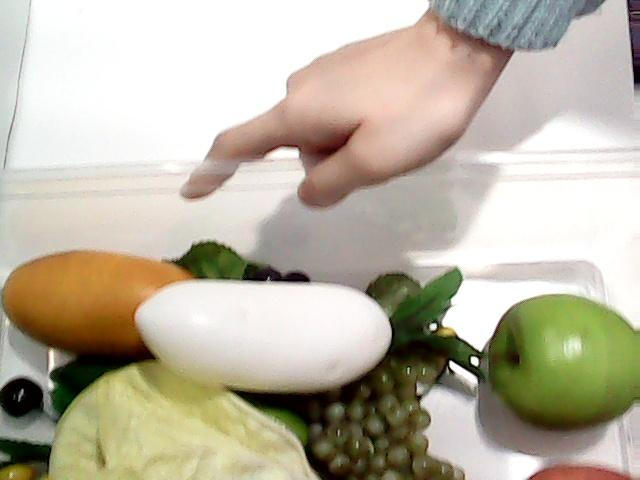apple: (486, 290, 638, 438)
grape: (309, 367, 466, 480)
mango: (0, 246, 244, 358)
peach: (527, 462, 640, 480)
pepper: (50, 347, 301, 480)
radish: (132, 266, 482, 400)
